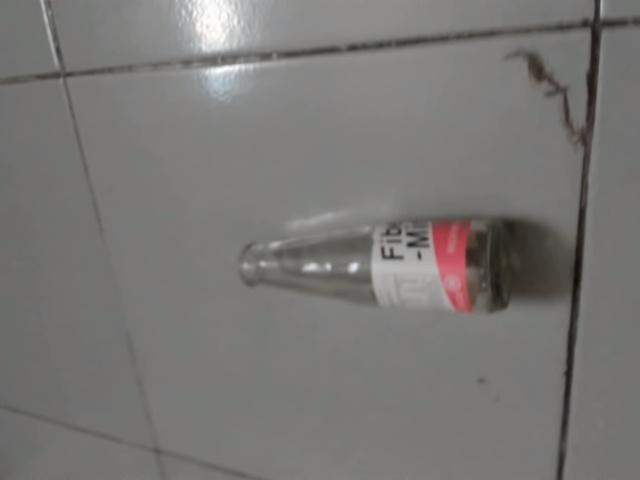botol_kaca: (235, 212, 528, 319)
